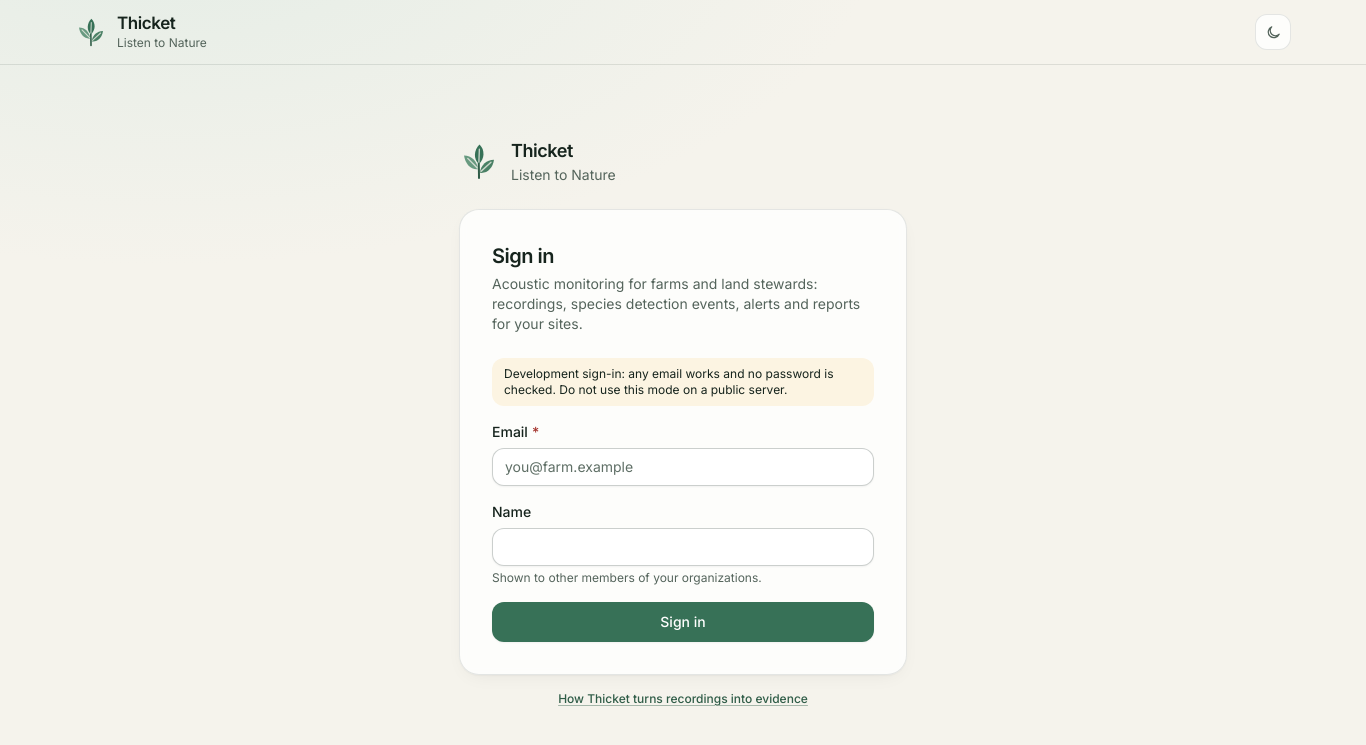
it: sign-in flows › shows the dev email form when the session is missing and opens the only organization after sign-in
The image size is (1366, 745).
Expected: the heading "Sign in" is shown, [492, 244, 554, 268]
Type "jane@hollowcreek.example" into the field labelled "Email*". click: coordinates (683, 467)
box: [492, 448, 874, 486]
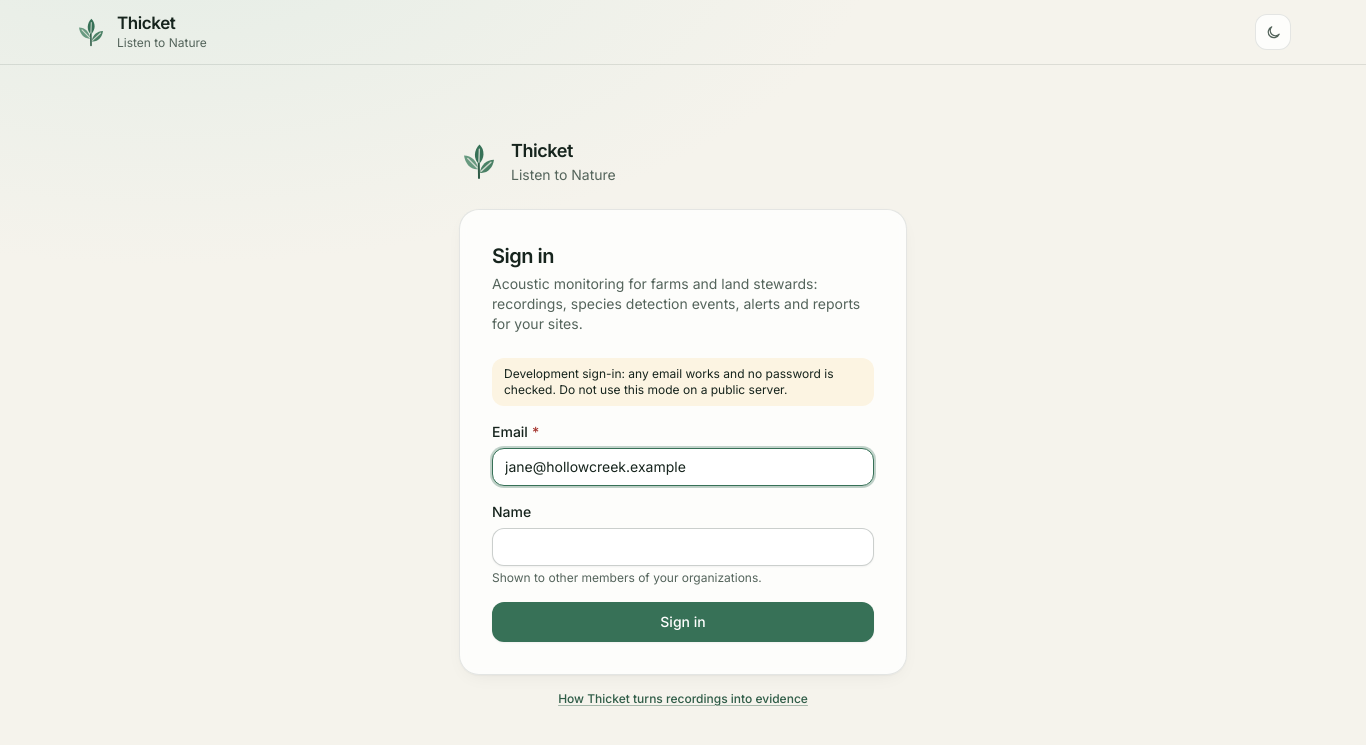
Type "Jane Farmer" into the field labelled "Name". click: coordinates (683, 547)
box: [492, 528, 874, 566]
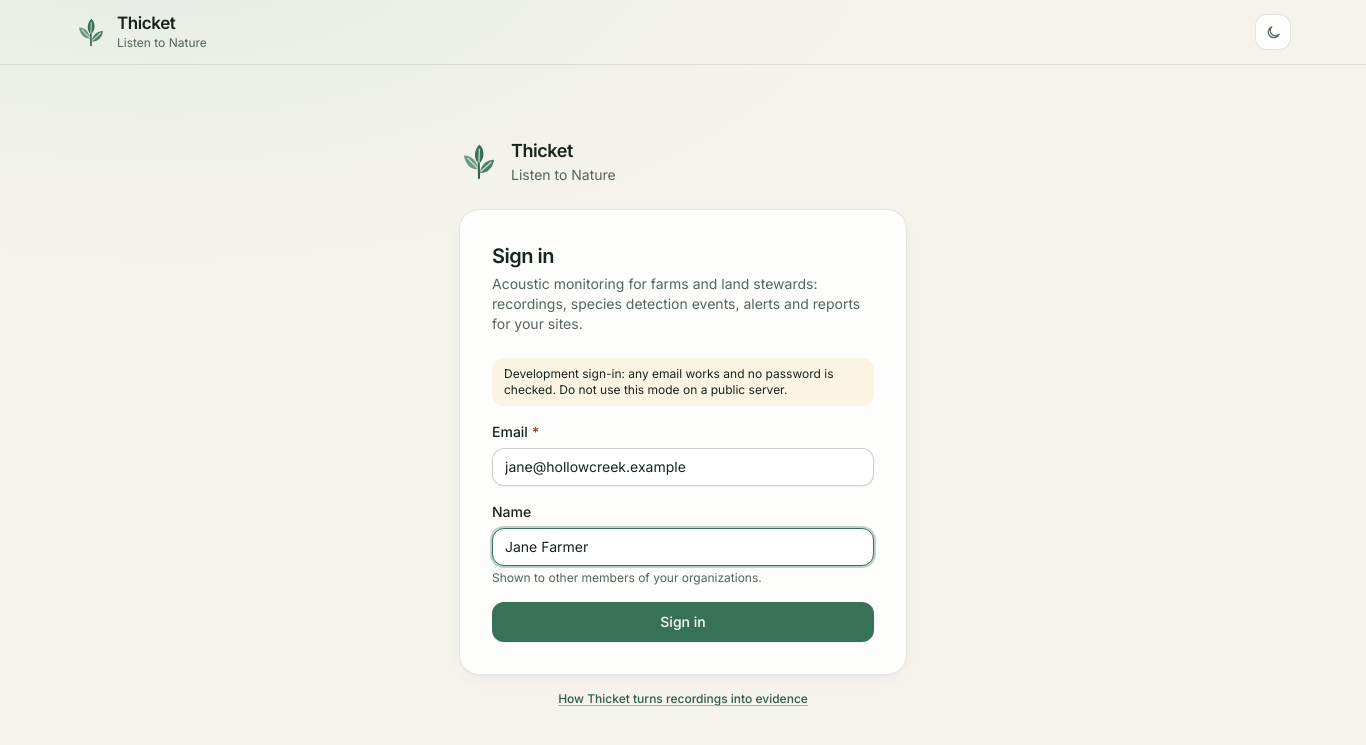
Click the button "Sign in". click: coordinates (683, 622)
box: [492, 602, 874, 642]
(page scrolled)
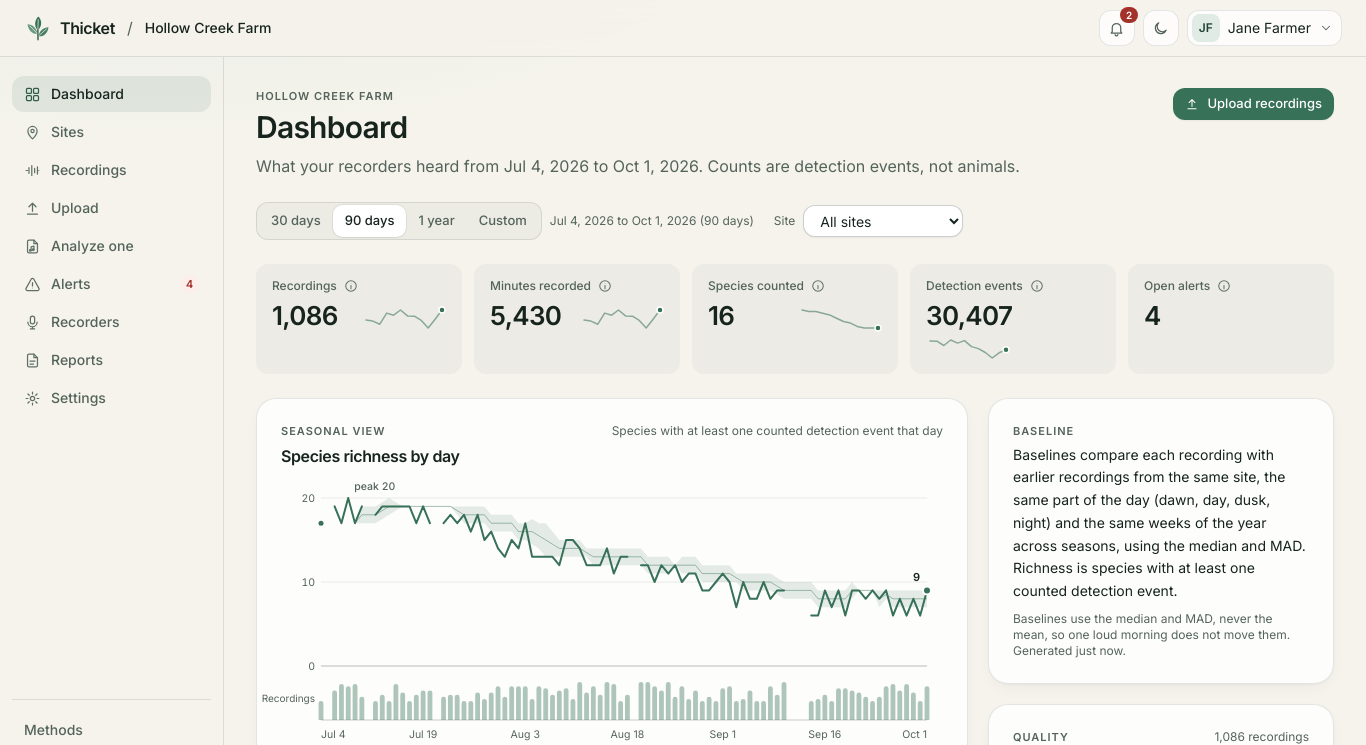
Result: the heading "Dashboard" is shown at [256, 108, 408, 144]
